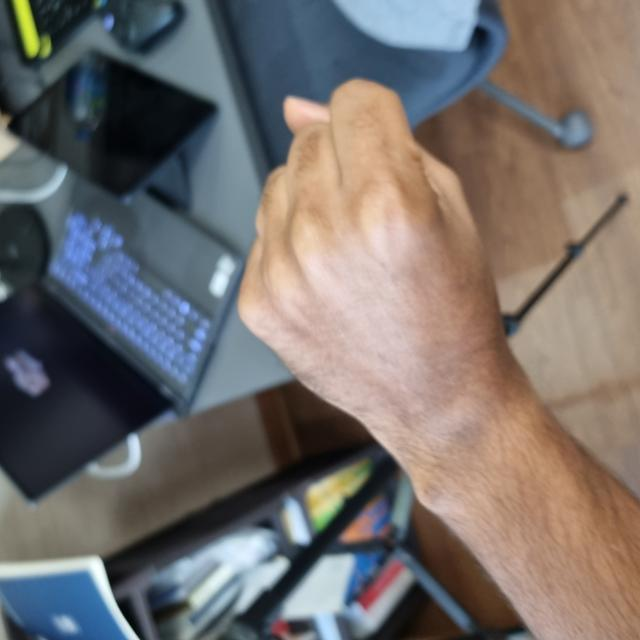Rock: (167, 240, 554, 505)
